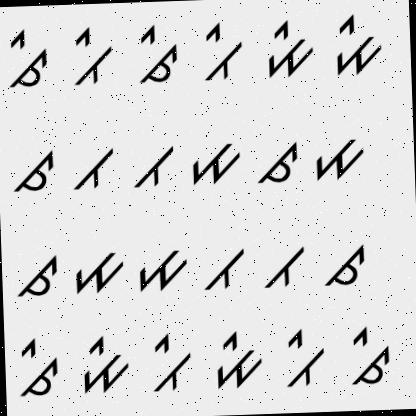ba: (132, 140, 182, 196), (257, 240, 308, 292), (70, 141, 118, 195), (199, 244, 249, 294)
bi: (143, 326, 195, 398), (280, 320, 331, 390), (200, 16, 248, 90), (71, 28, 115, 95)
ca: (7, 138, 58, 202), (10, 248, 63, 302), (252, 134, 300, 190), (321, 244, 372, 294)
ci: (2, 23, 56, 91), (17, 336, 68, 402), (346, 321, 394, 390), (132, 23, 180, 85)
ma: (308, 127, 370, 186), (132, 243, 194, 296), (186, 139, 248, 189), (68, 248, 126, 300)
mi: (207, 323, 266, 395), (326, 10, 388, 78), (73, 328, 134, 396), (259, 16, 318, 82)
